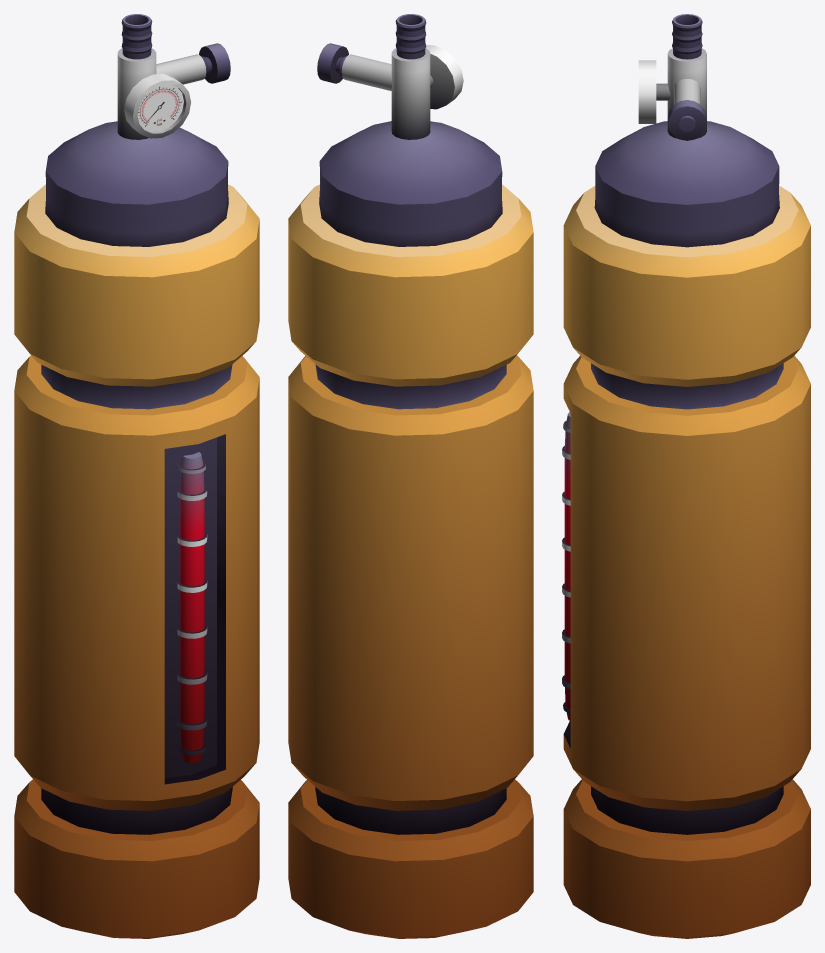
File: Laughing Gas.fbx
The picture shows the model from 3 angles, left to right: view 1: azimuth 30°, elevation 25°; view 2: azimuth 150°, elevation 25°; view 3: azimuth 270°, elevation 25°; orthographic projection.
Visible parts, largest first — view 1: Cylinder; view 2: Cylinder; view 3: Cylinder.
Boxes of the visible parts, <box> form: Cylinder: <box>14,14,259,938</box>; Cylinder: <box>288,14,533,938</box>; Cylinder: <box>562,14,810,938</box>.
Bounding box in the file's own units: 167 × 657 × 168.
Materials: 2 (2 with a texture image).
